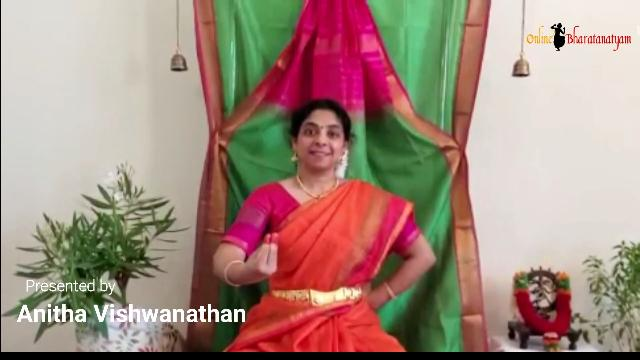mukul: (235, 226, 295, 296)
